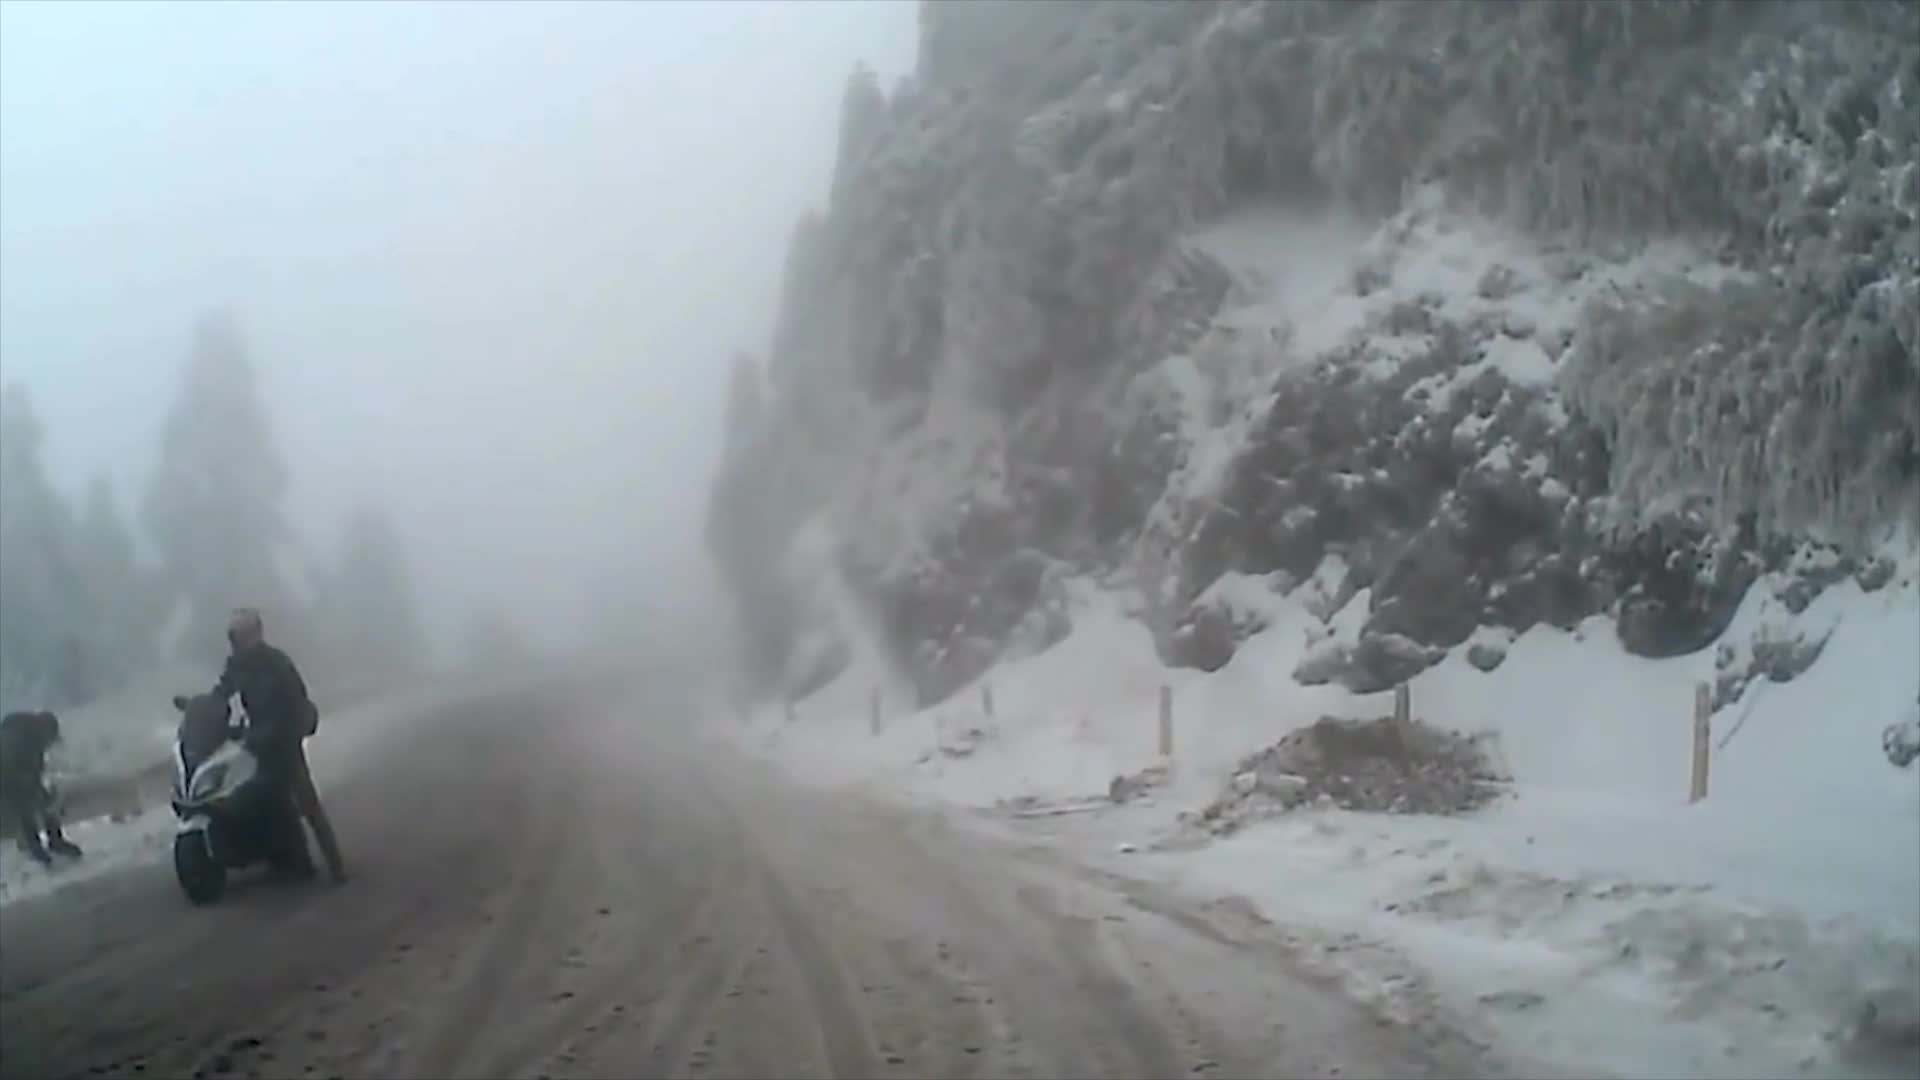pedestrian: (182, 590, 348, 887), (1, 715, 85, 877)
